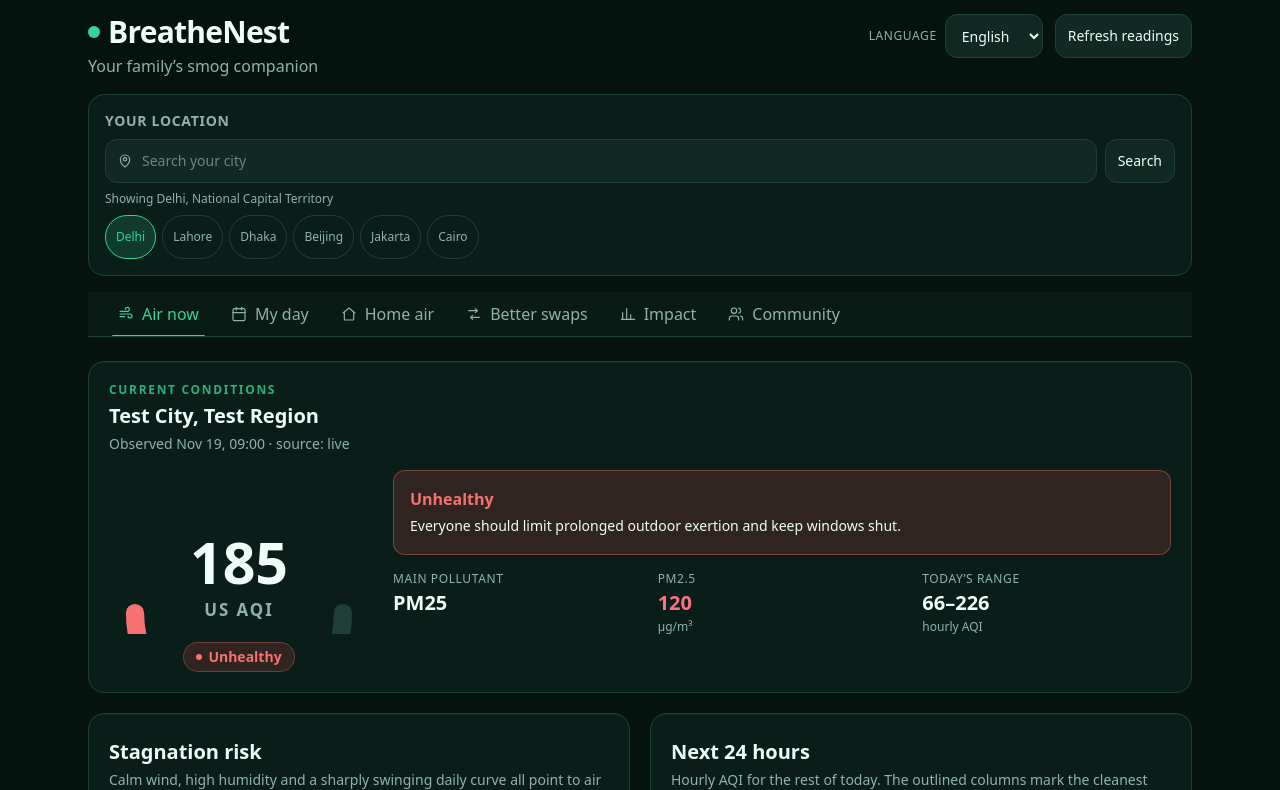
Scenario: routine tab — deterministic fallback › prices the commute block for the household mode
The width and height of the screenshot is (1280, 790).
Click the tab "My day" at {"x": 270, "y": 314}, box [217, 292, 323, 336]
(page scrolled)
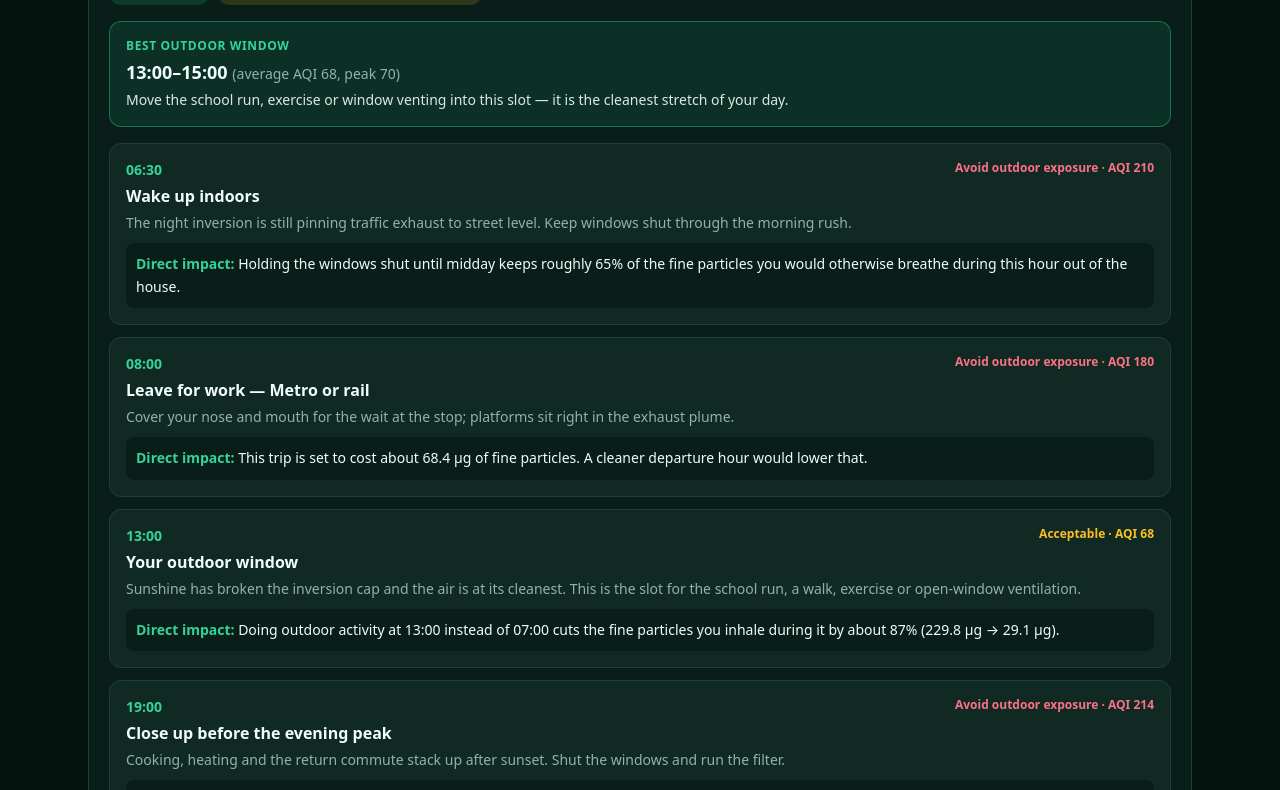
Expected: the heading "Leave for work — Metro or rail" is shown, [126, 379, 370, 401]
